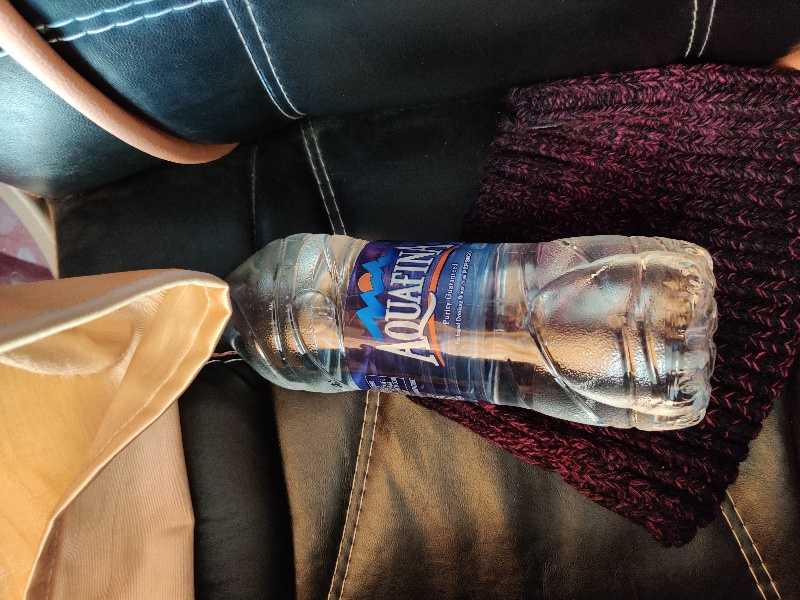bottle: (173, 218, 719, 433)
